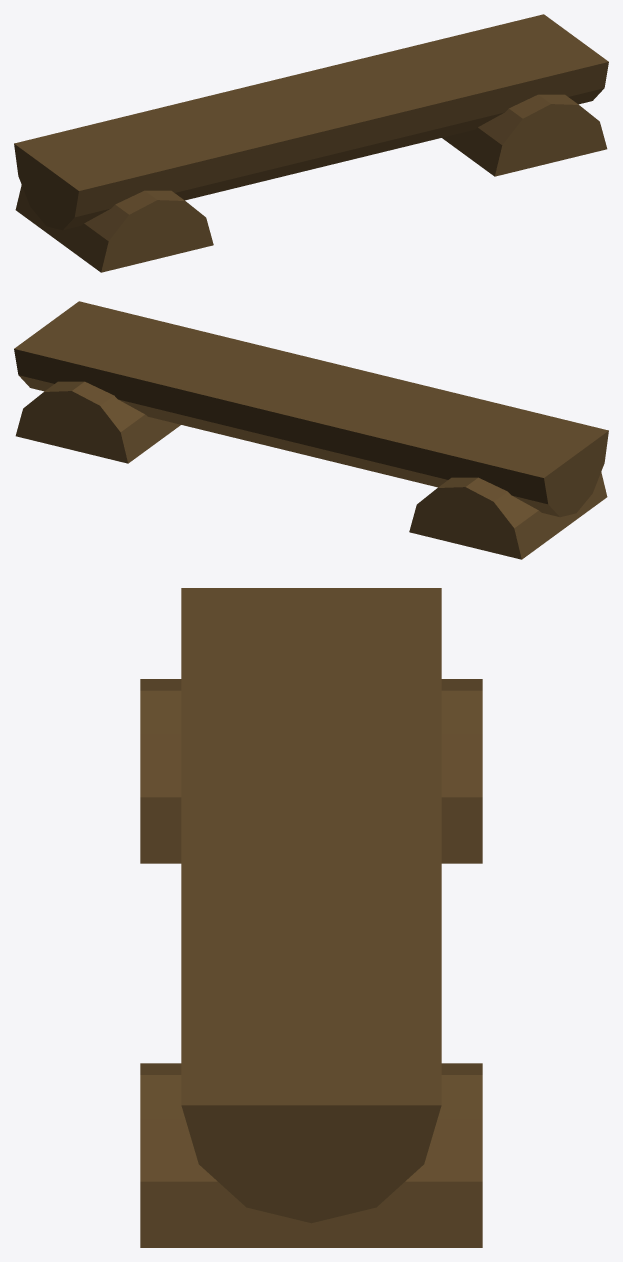
Rendered from Bench.fbx.
3 renders of one model, top to bottom at view 1: azimuth 30°, elevation 25°; view 2: azimuth 150°, elevation 25°; view 3: azimuth 270°, elevation 25°, orthographic. The views are drawn at different scales.
Visible parts, largest first — view 1: Bench; view 2: Bench; view 3: Bench.
Boxes of the visible parts, bbox=[...] form: Bench: bbox=[14, 14, 608, 272]; Bench: bbox=[14, 301, 608, 559]; Bench: bbox=[140, 588, 482, 1247].
Size of the model in its own units: 108 by 14.95 by 30.12.
